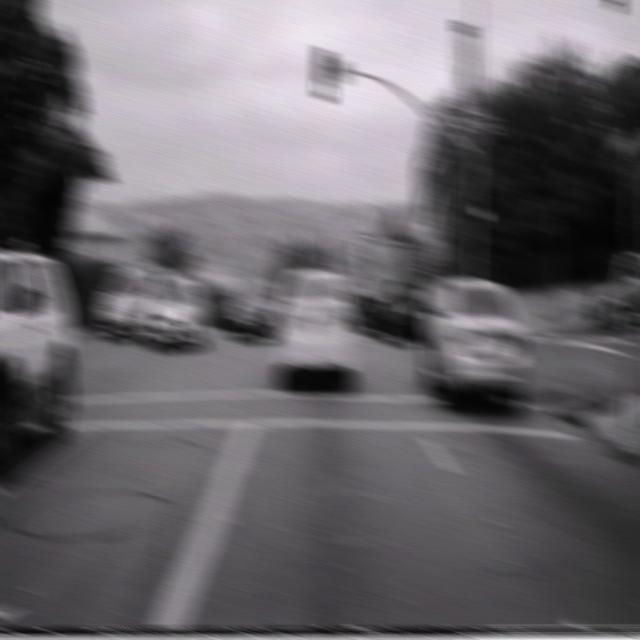speedLimit35: (415, 242, 435, 277)
